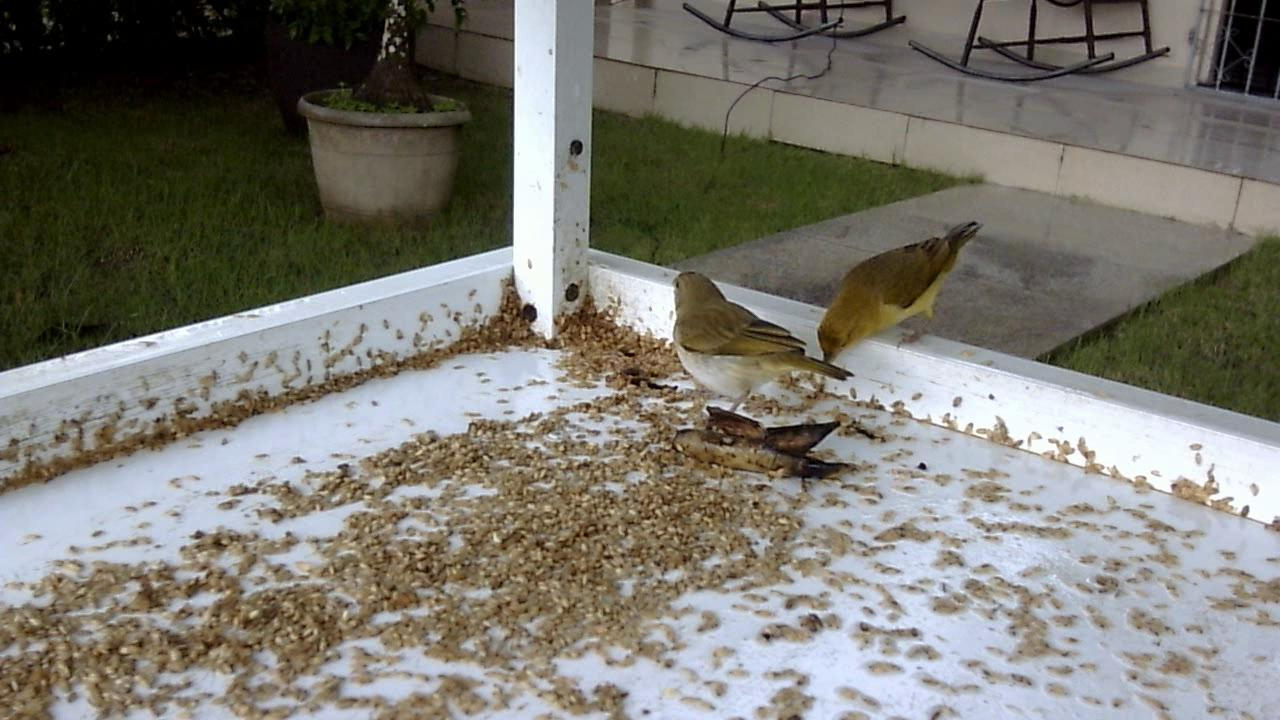canario_do_amazonas: (658, 256, 873, 445), (800, 217, 997, 385)
